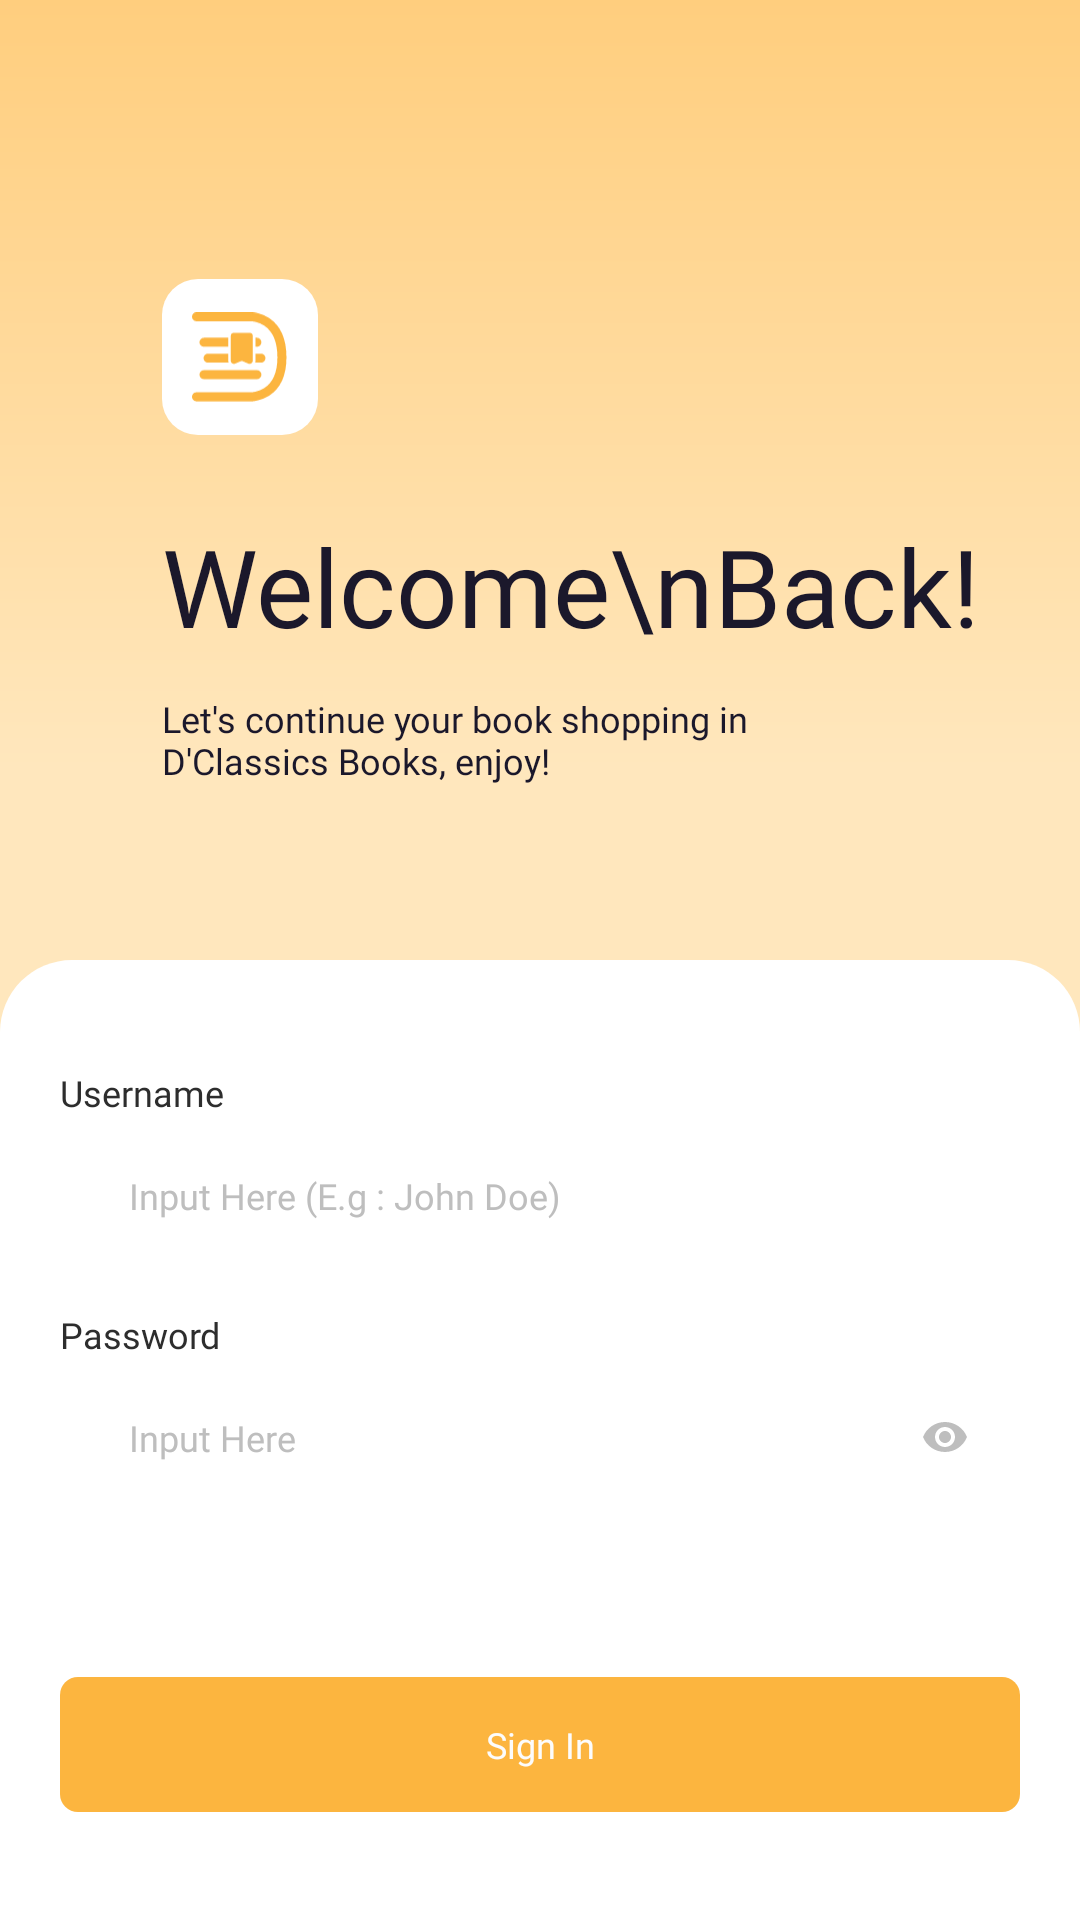

Locate icon controls on the screen. Image size 1080px x 1920px, boxes as (x1, y1, x2, y2).
eye: (923, 1422, 967, 1452)
